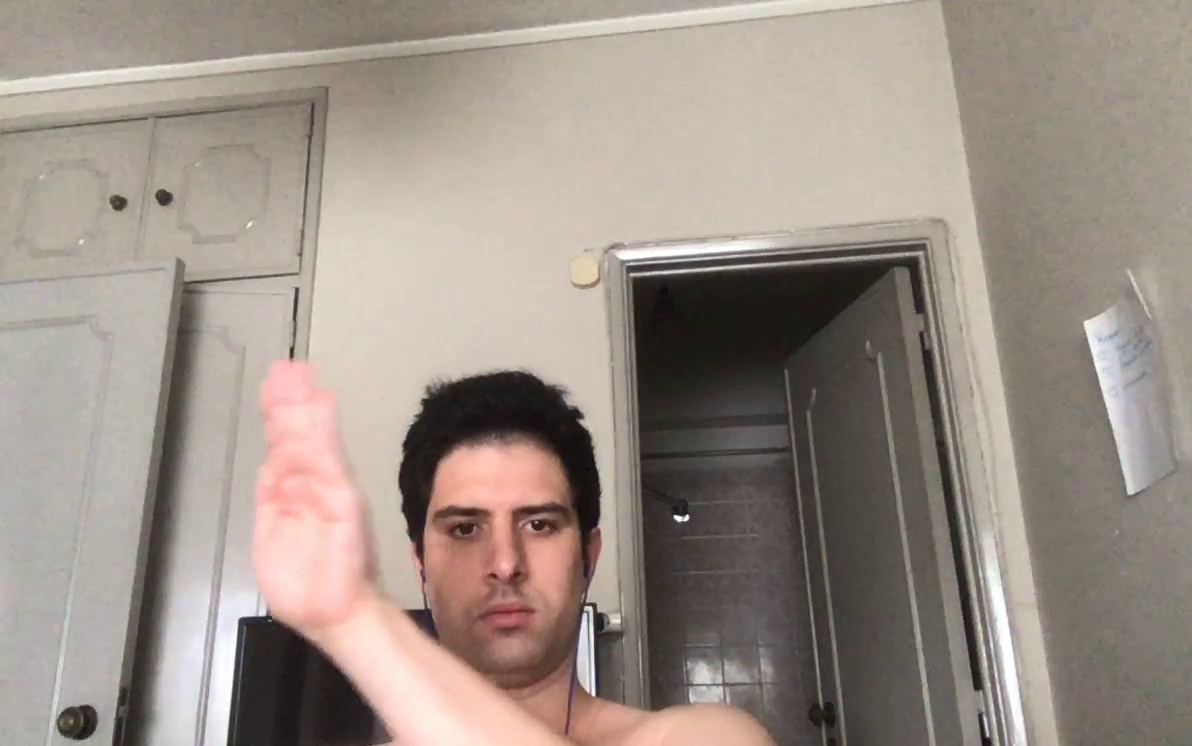b: (248, 354, 384, 640)
